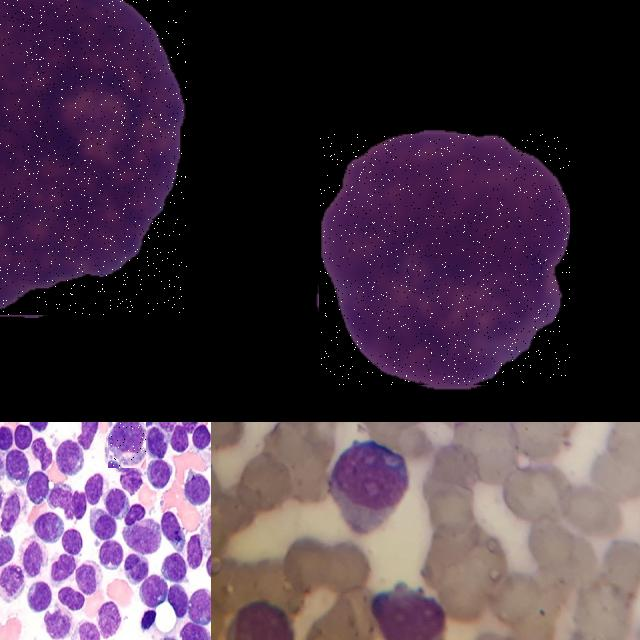ALL Negative Cells: (320, 134, 569, 385), (108, 422, 145, 468)
ALL Positive Cell: (0, 0, 186, 302), (333, 443, 408, 523), (371, 588, 446, 640), (161, 552, 190, 586), (165, 587, 190, 612), (140, 606, 156, 630), (206, 545, 211, 581)
